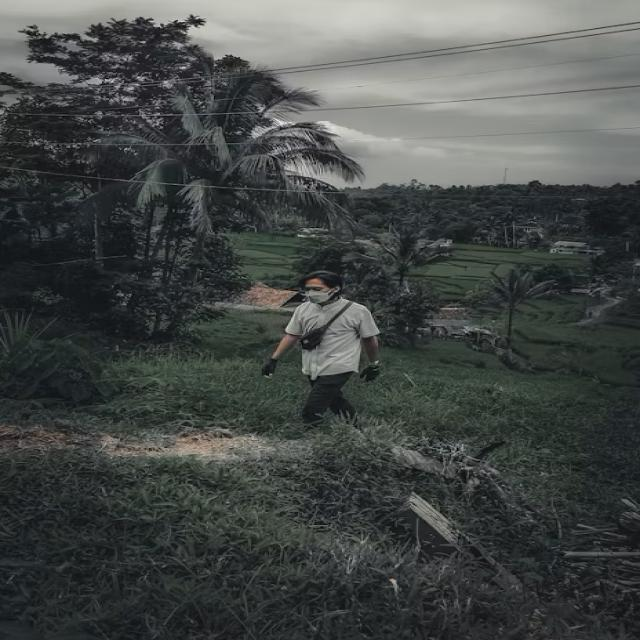Edited images: (224, 255, 413, 455)
